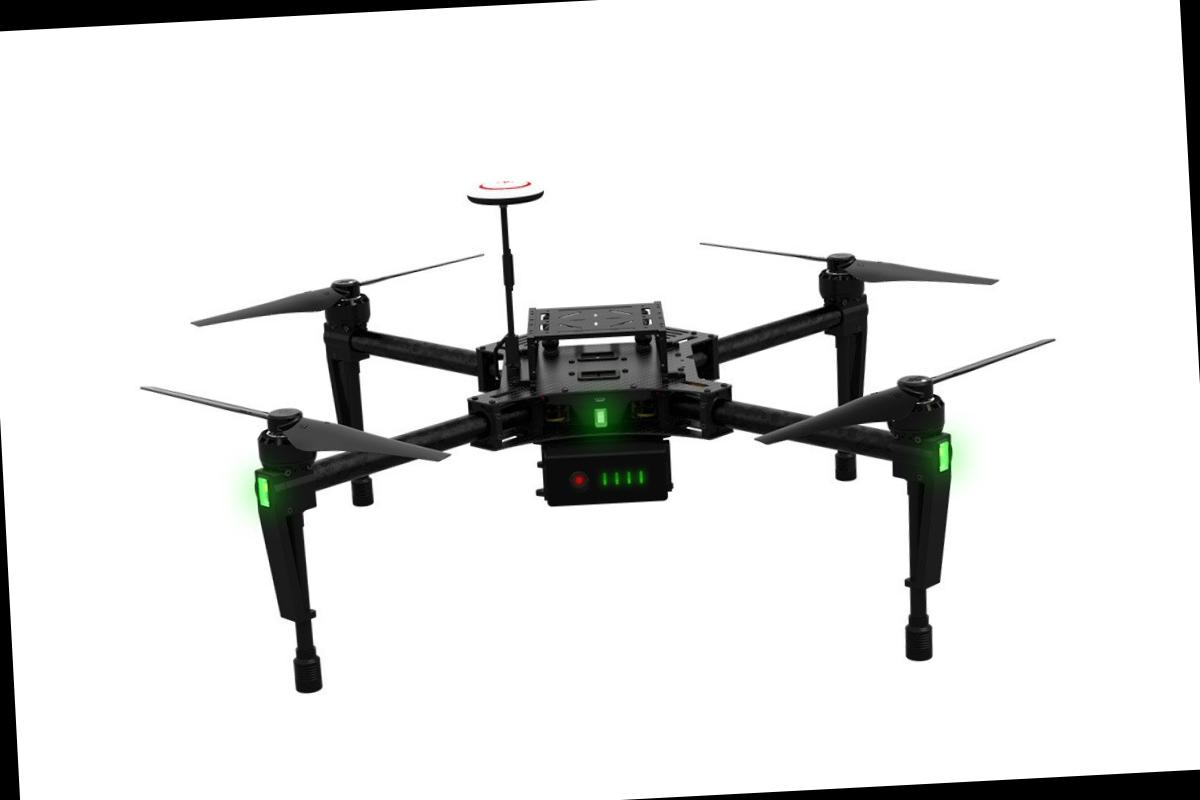drone: (74, 178, 1084, 604)
